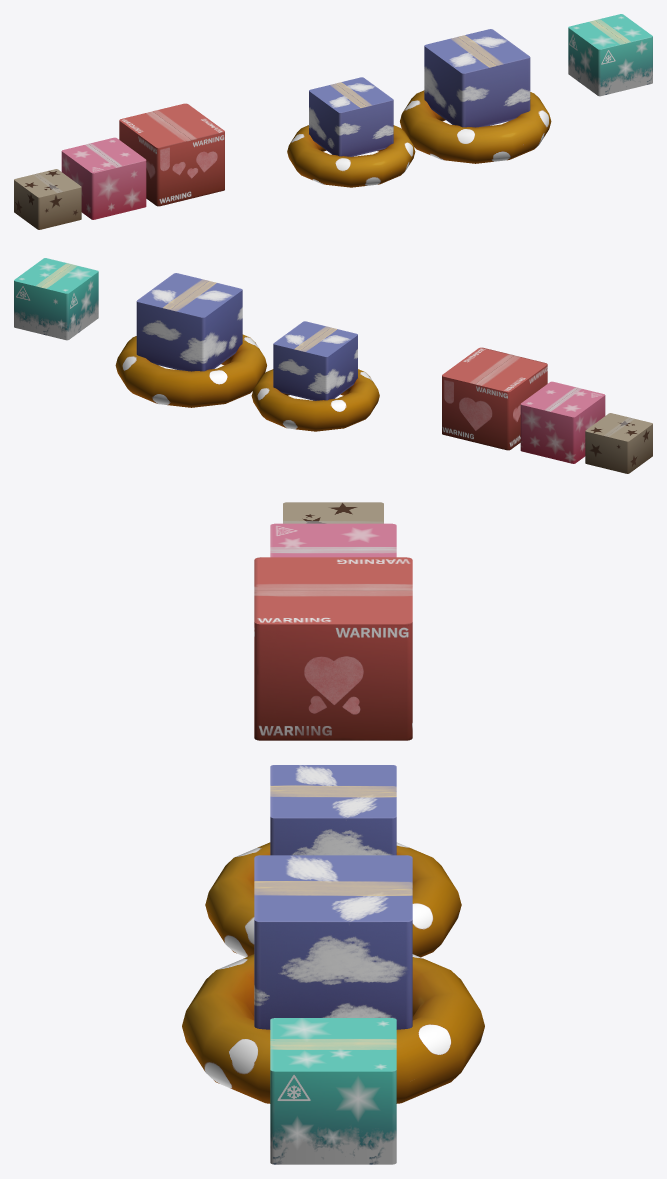
Rendered from BoxSizeAsset.fbx.
3 views of the same model, one above another, from view 1: azimuth 30°, elevation 25°; view 2: azimuth 150°, elevation 25°; view 3: azimuth 270°, elevation 25° (orthographic). The views are drawn at different scales.
Visible parts, largest first — view 1: Torus.001, Cube.029, Cube.035, Torus, Cube.032, Cube.021, Cube.036, Cube.034, BOX.005, BOX.002, Cube.030, Cube.039 (+8 smaller); view 2: Torus.001, Cube.029, Cube.035, Torus, Cube.032, Cube.021, Cube.036, Cube.034, BOX.005, BOX.002, Cube.030, Cube.039 (+8 smaller); view 3: Cube.035, Torus.001, Cube.029, Cube.032, Torus, Cube.039, Cube.030, BOX.002, BOX.005, Cube.021, Cube.040, Cube.024 (+5 smaller).
Part boxes in pixels (x1,y1,x2,y2): Torus.001: (400, 90, 551, 163); Cube.029: (424, 47, 530, 127); Cube.035: (119, 121, 224, 206); Torus: (287, 125, 415, 187); Cube.032: (568, 28, 652, 96); Cube.021: (309, 91, 393, 156); Cube.036: (61, 151, 146, 219); Cube.034: (14, 180, 81, 229); BOX.005: (424, 37, 496, 74); BOX.002: (119, 111, 191, 148); Cube.030: (458, 29, 530, 65); Cube.039: (153, 103, 224, 140); Torus.001: (115, 334, 266, 407); Cube.029: (136, 291, 242, 371); Cube.035: (442, 365, 547, 450); Torus: (251, 369, 379, 431); Cube.032: (14, 272, 98, 340); Cube.021: (273, 335, 357, 400); Cube.036: (520, 395, 605, 463); Cube.034: (585, 424, 652, 473); BOX.005: (170, 281, 242, 318); BOX.002: (475, 355, 547, 392); Cube.030: (136, 273, 208, 310); Cube.039: (442, 347, 513, 384); Cube.035: (254, 624, 412, 740); Torus.001: (182, 954, 484, 1103); Cube.029: (254, 922, 412, 1029); Cube.032: (270, 1071, 396, 1164); Torus: (205, 842, 461, 957); Cube.039: (254, 590, 412, 625); Cube.030: (254, 888, 412, 923); BOX.002: (254, 557, 412, 590); BOX.005: (254, 855, 412, 888); Cube.021: (270, 818, 396, 855); Cube.040: (270, 1044, 396, 1072); Cube.024: (270, 791, 396, 819).
Size of the model in its own units: 458 by 61.6 by 98.16.
8 materials, 8 textured.
